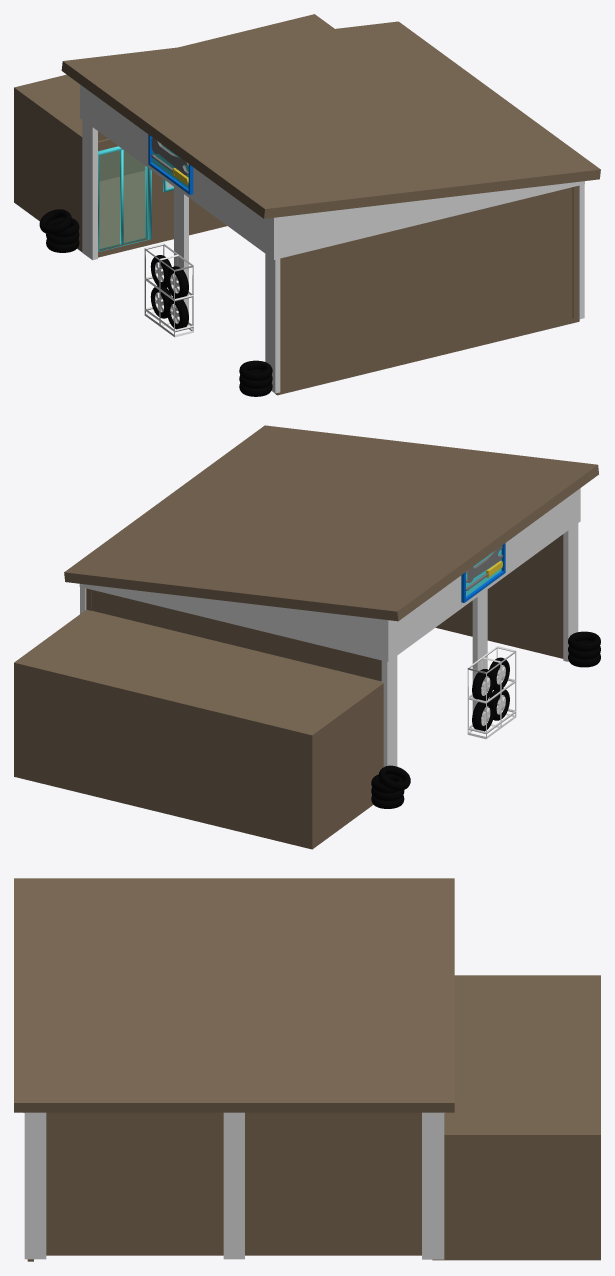
Rendered from Upgrade Shop.fbx.
3 renders of one model, top to bottom at view 1: azimuth 30°, elevation 25°; view 2: azimuth 150°, elevation 25°; view 3: azimuth 270°, elevation 25°, orthographic. The views are drawn at different scales.
Visible parts, largest first — view 1: Side Model, Wall, Tyer, Tyer holder; view 2: Side Model, Wall, Tyer, Tyer holder; view 3: Side Model.
Boxes of the visible parts, x1,y1,x2,y2 form: Side Model: [14, 14, 600, 396]; Wall: [98, 131, 579, 395]; Tyer: [150, 255, 188, 329]; Tyer holder: [144, 243, 193, 337]; Side Model: [14, 425, 600, 849]; Wall: [92, 534, 563, 681]; Tyer: [472, 657, 509, 731]; Tyer holder: [467, 646, 516, 739]; Side Model: [14, 878, 600, 1260].
Bounding box in the file's own units: 289 × 153 × 384.
